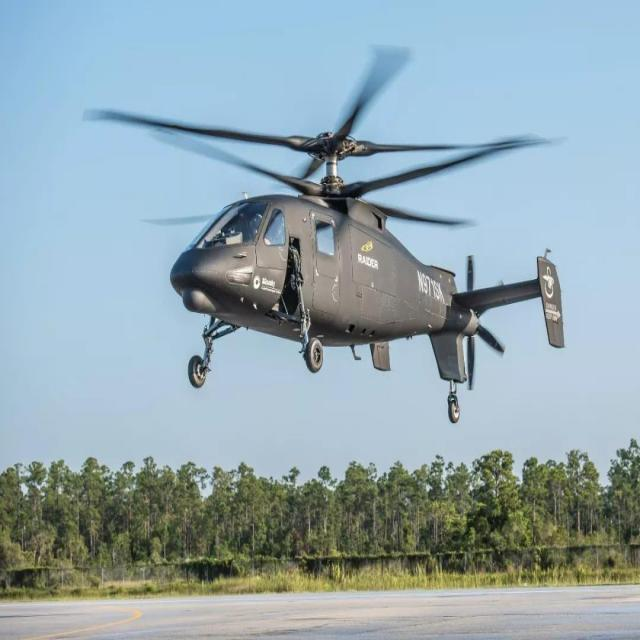MIL_HELO: (94, 66, 575, 417)
